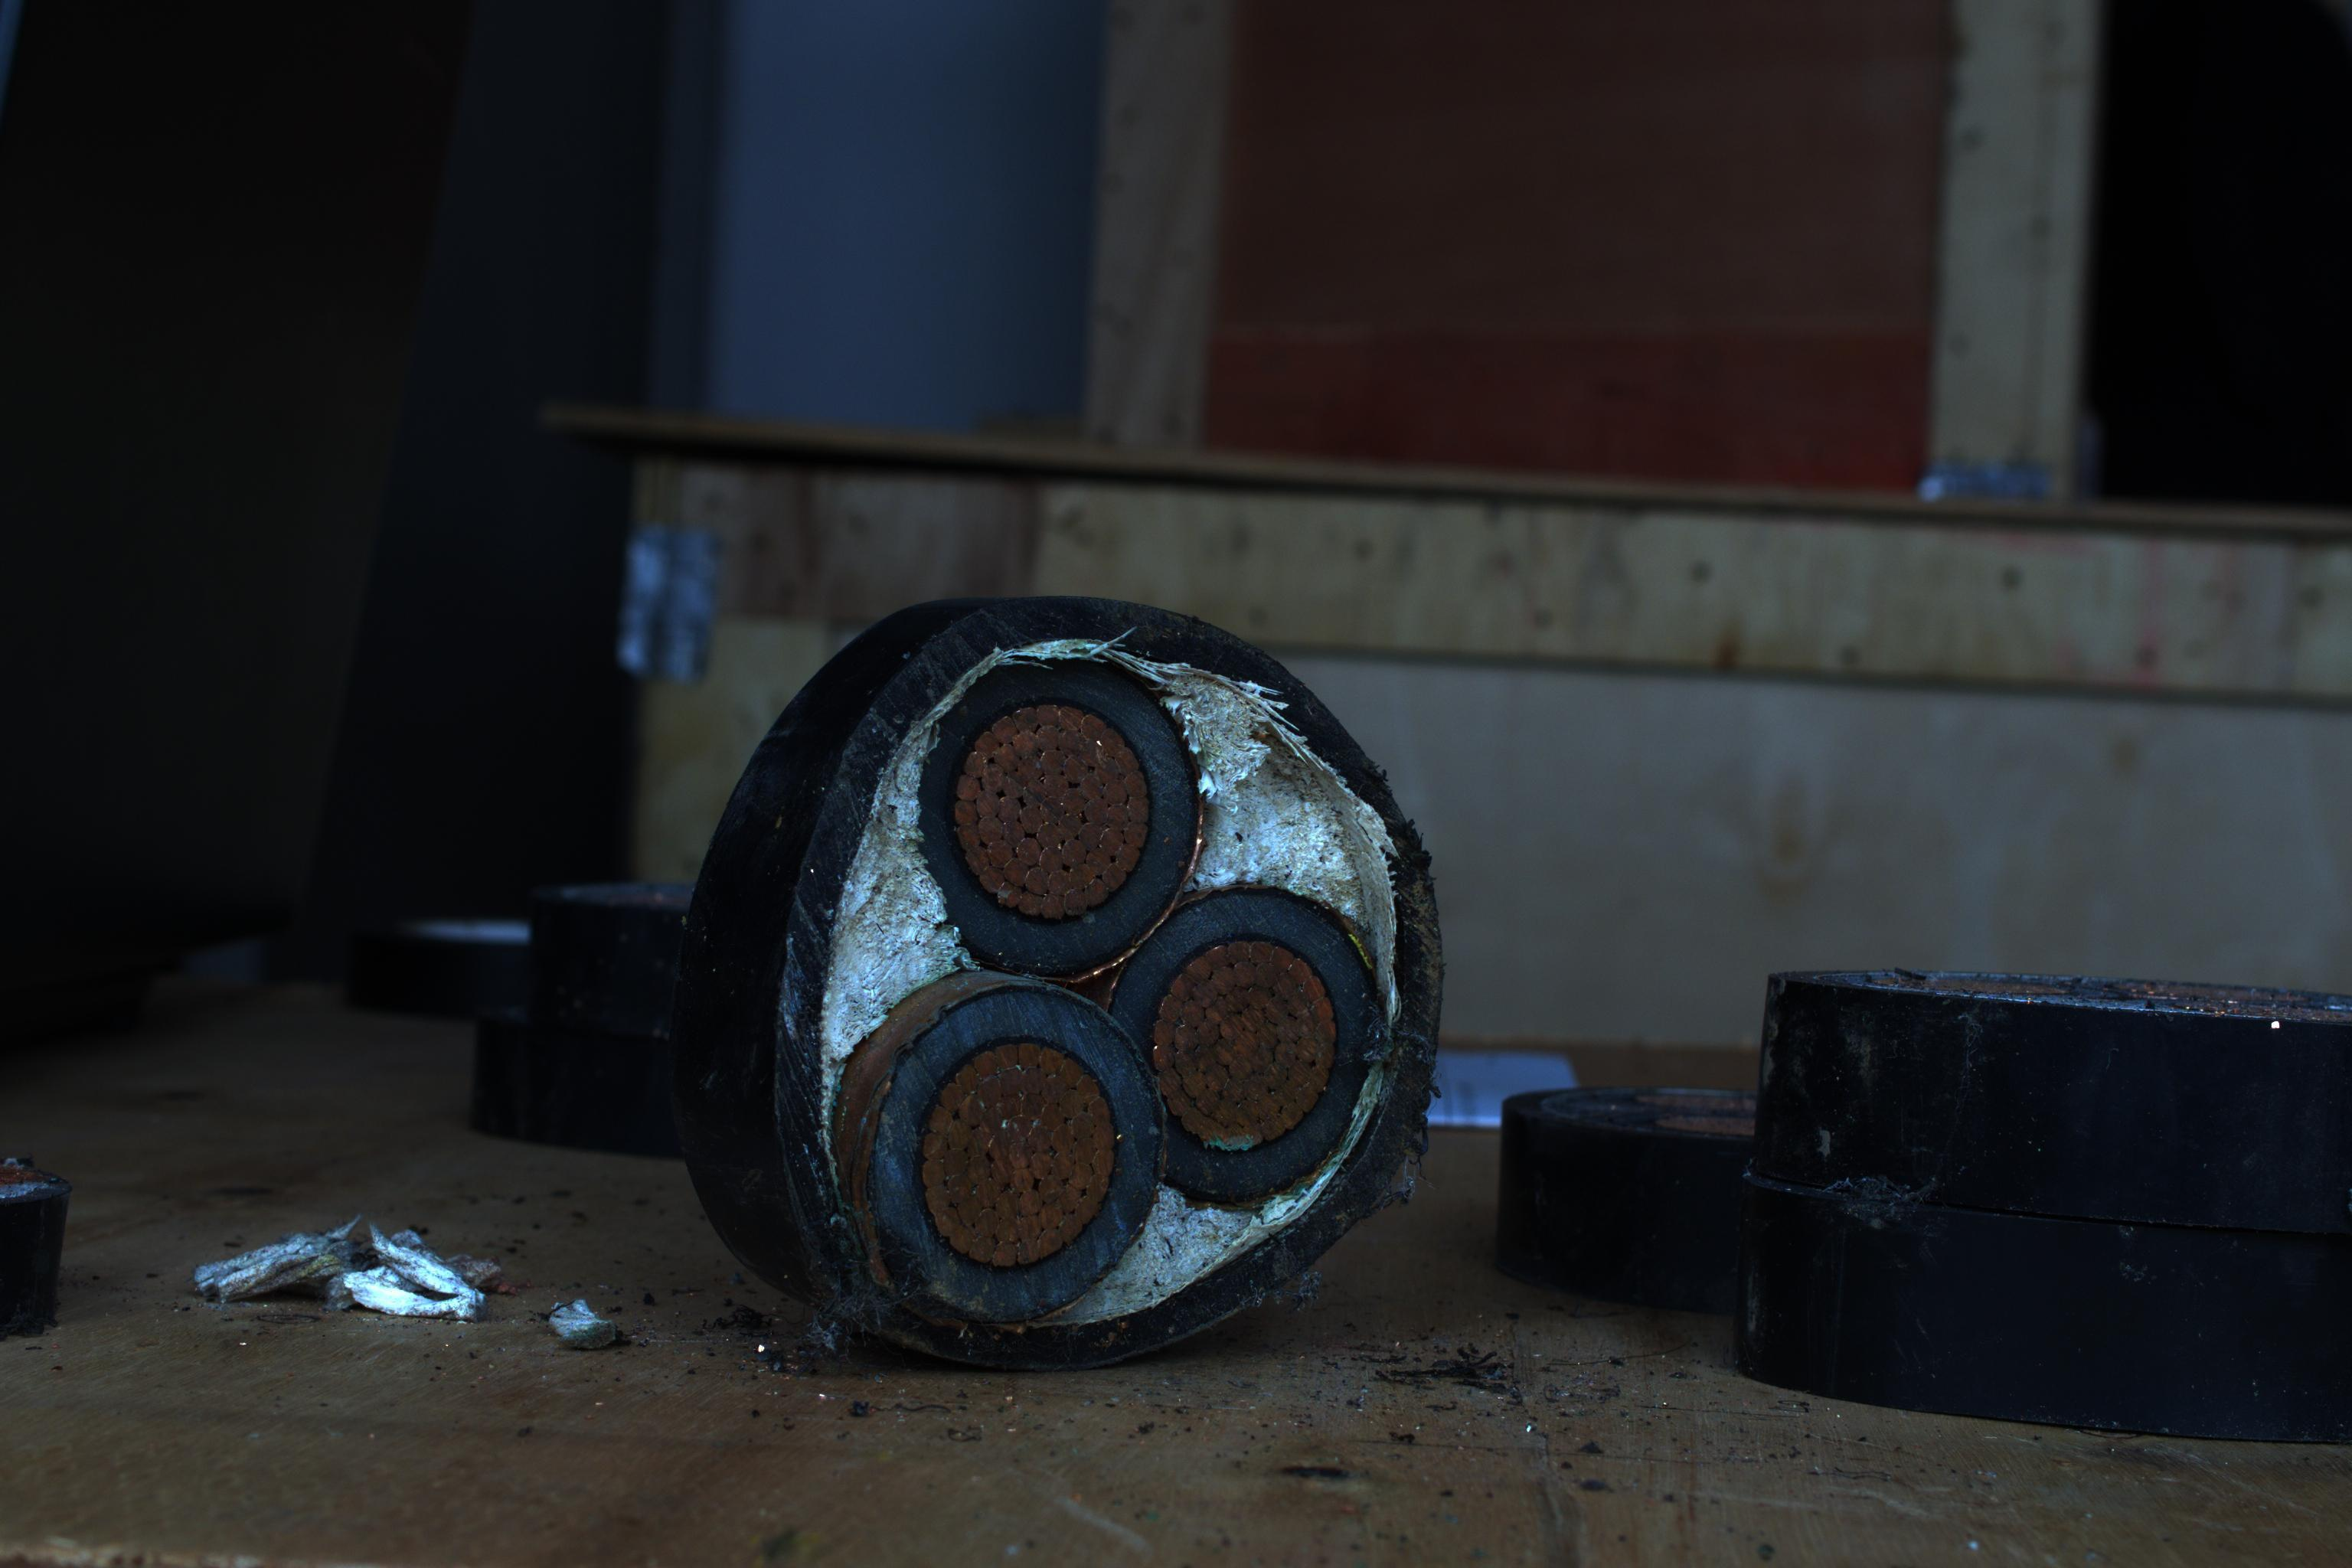ZA_YJV_8.7_10kV_3x400: (768, 607, 1438, 1333)
